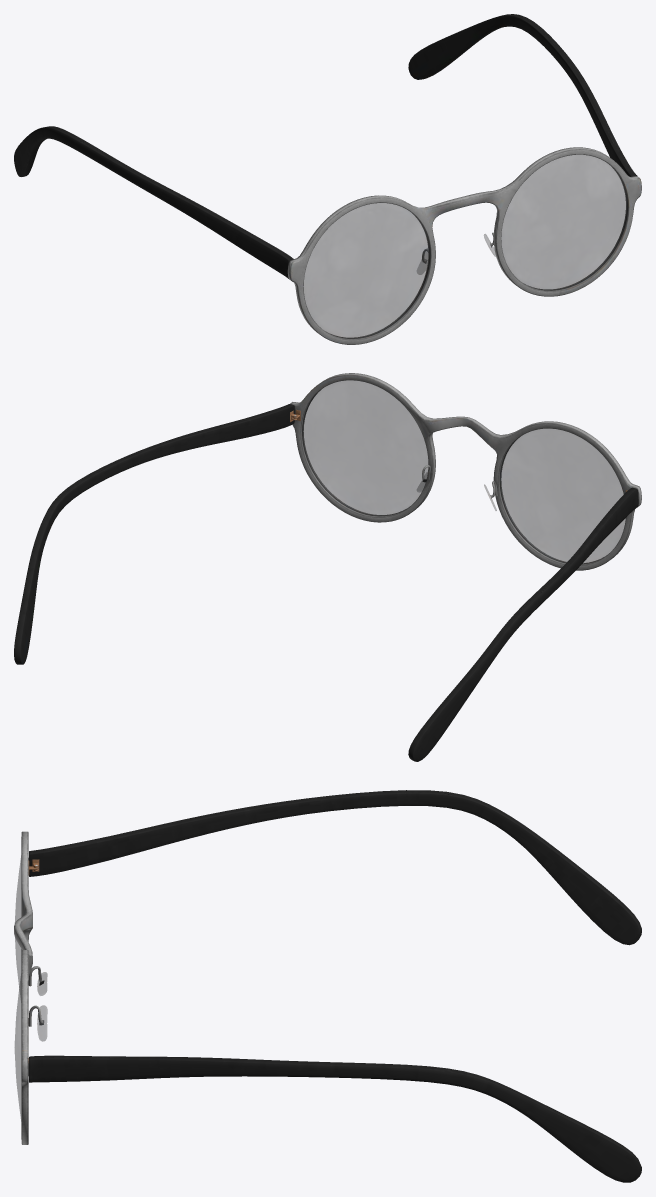
3 views of the same model, one above another, from view 1: azimuth 30°, elevation 25°; view 2: azimuth 150°, elevation 25°; view 3: azimuth 270°, elevation 25° (orthographic). The views are drawn at different scales.
Visible parts, largest first — view 1: round_spectacles; view 2: round_spectacles; view 3: round_spectacles.
Boxes of the visible parts, x1,y1,x2,y2 form: round_spectacles: (14, 14, 641, 344); round_spectacles: (14, 373, 641, 761); round_spectacles: (14, 790, 641, 1182).
Size of the model in its own units: 0.1578 by 0.0463 by 0.149.
2 materials, 2 textured.
